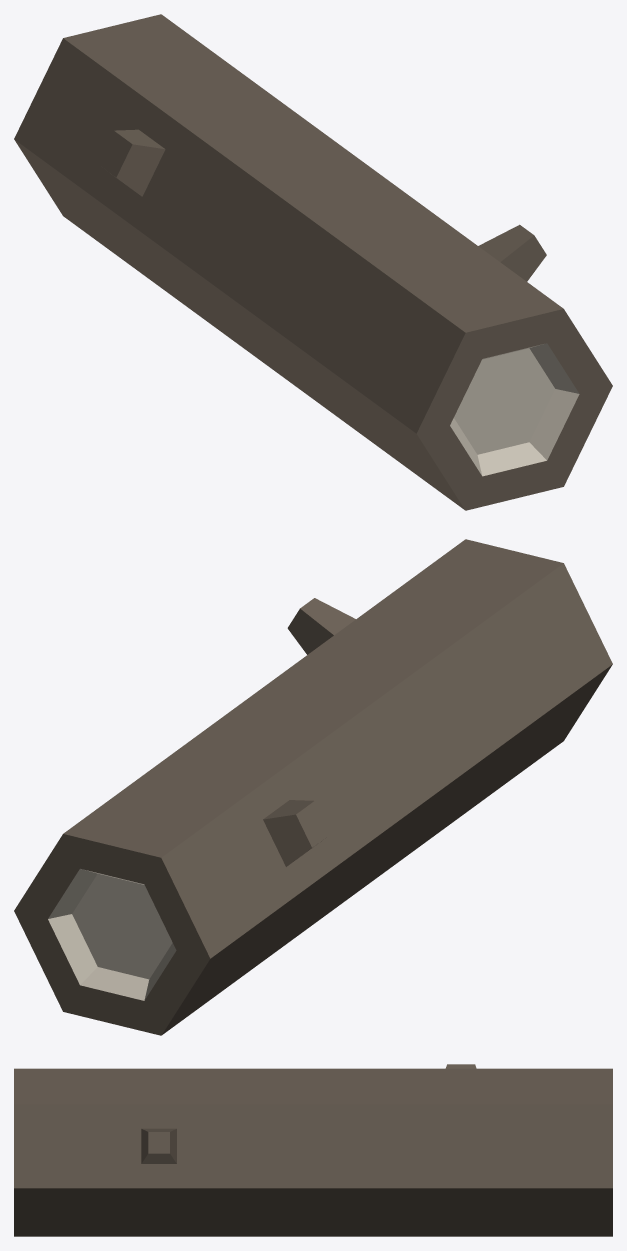
Rendered from log.glb.
The picture shows the model from 3 angles, top to bottom: view 1: azimuth 30°, elevation 25°; view 2: azimuth 150°, elevation 25°; view 3: azimuth 270°, elevation 25°; orthographic projection. The views are drawn at different scales.
Visible parts, largest first — view 1: log; view 2: log; view 3: log.
Part boxes in pixels (x1,y1,x2,y2): log: (14, 14, 612, 510); log: (14, 539, 612, 1035); log: (14, 1064, 612, 1236).
Bounding box in the file's own units: 0.234 × 0.1732 × 0.71.
